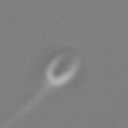normal: (1, 82, 50, 128)
